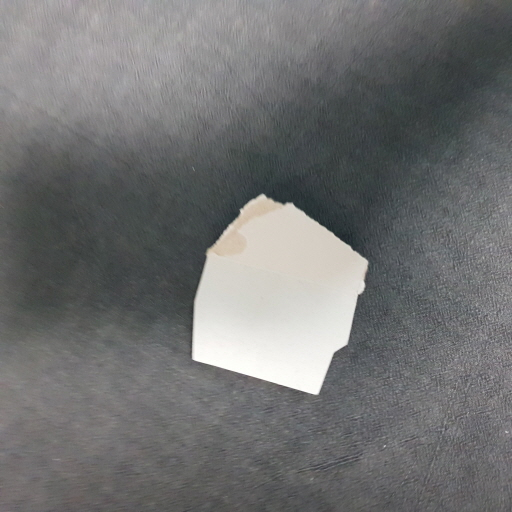Paper_2: (182, 192, 393, 404)
